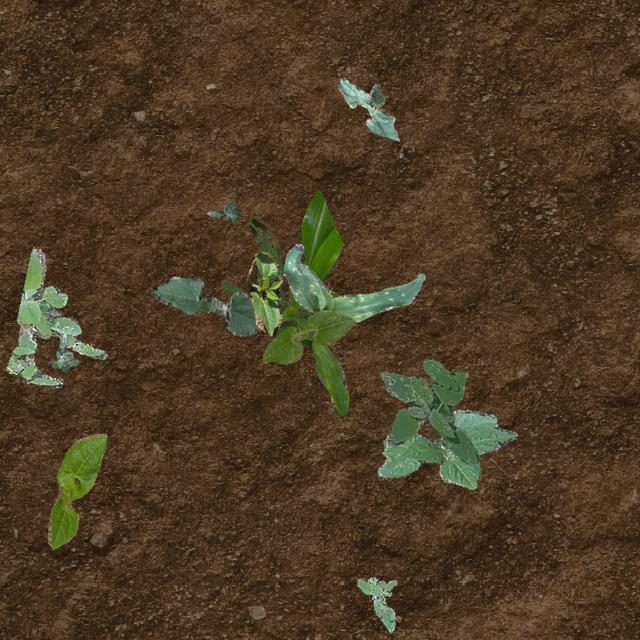crop: (220, 190, 348, 414), (376, 408, 516, 488), (282, 242, 424, 320), (46, 432, 106, 548), (152, 276, 258, 336), (262, 308, 354, 364), (338, 76, 398, 140), (247, 248, 280, 336)
weed: (5, 246, 106, 386), (379, 356, 478, 464), (356, 576, 396, 632), (51, 332, 78, 372), (206, 198, 240, 222)
